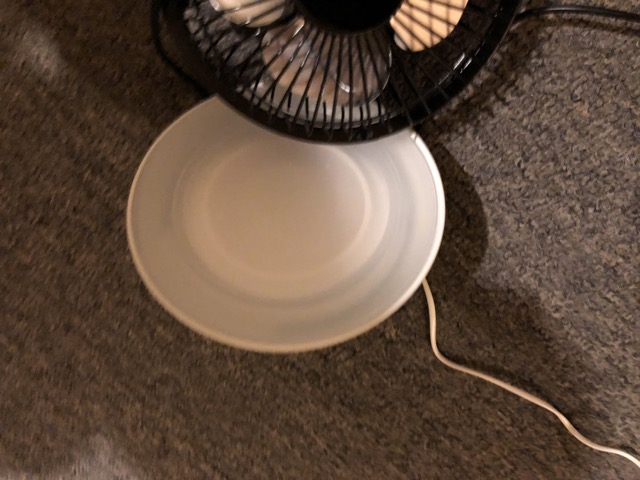fan: (160, 1, 547, 139)
light: (110, 66, 462, 359)
